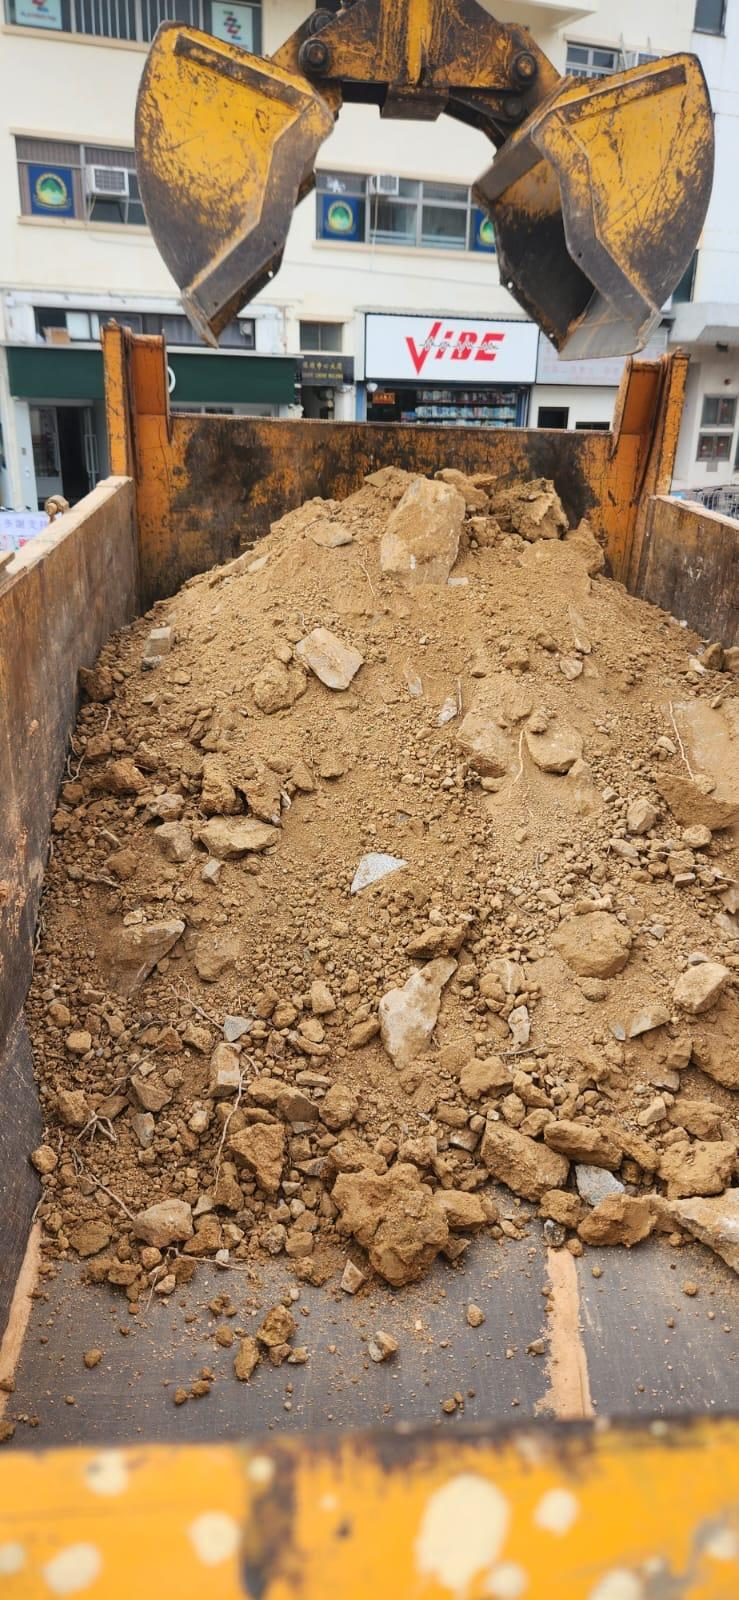dirt: (6, 460, 736, 1441)
stone: (378, 476, 466, 583), (548, 908, 632, 978), (293, 626, 364, 691), (367, 1329, 398, 1361)
